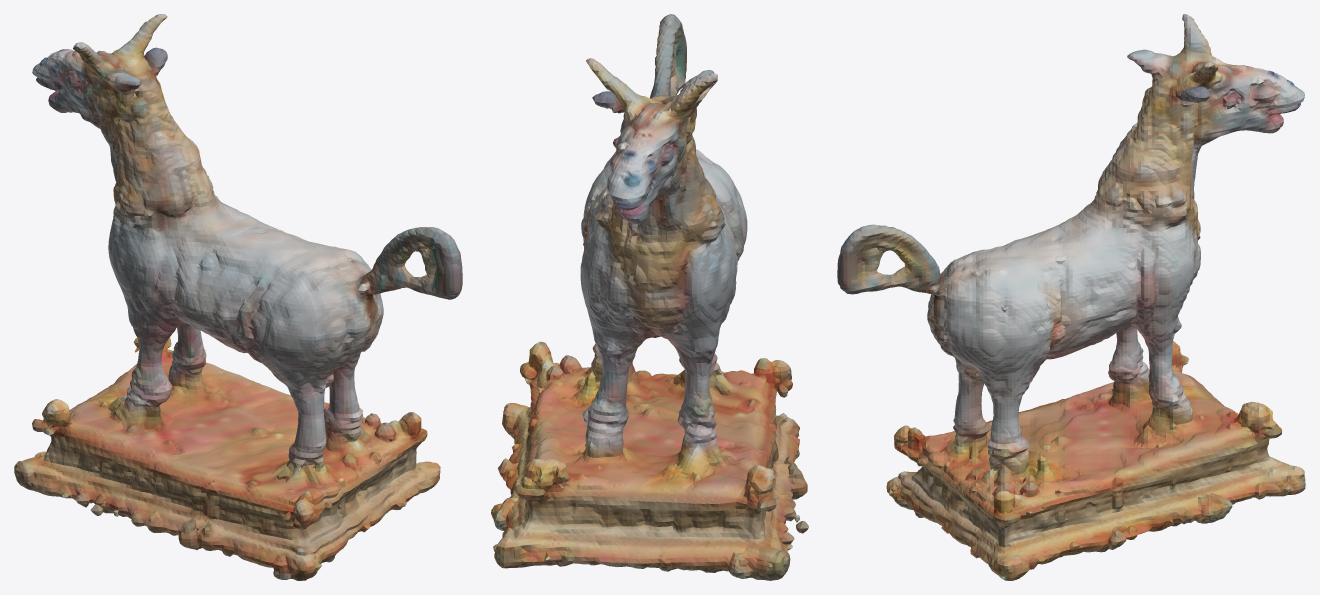
File: bali.glb
3 views of the same model, side by side, from view 1: azimuth 30°, elevation 25°; view 2: azimuth 150°, elevation 25°; view 3: azimuth 270°, elevation 25° (orthographic). The views are drawn at different scales.
Visible parts, largest first — view 1: world; view 2: world; view 3: world.
Boxes of the visible parts, x1,y1,x2,y2 form: world: (14, 14, 462, 580); world: (491, 14, 808, 580); world: (837, 14, 1305, 580).
Bounding box in the file's own units: 0.7332 × 0.9476 × 0.8921.
